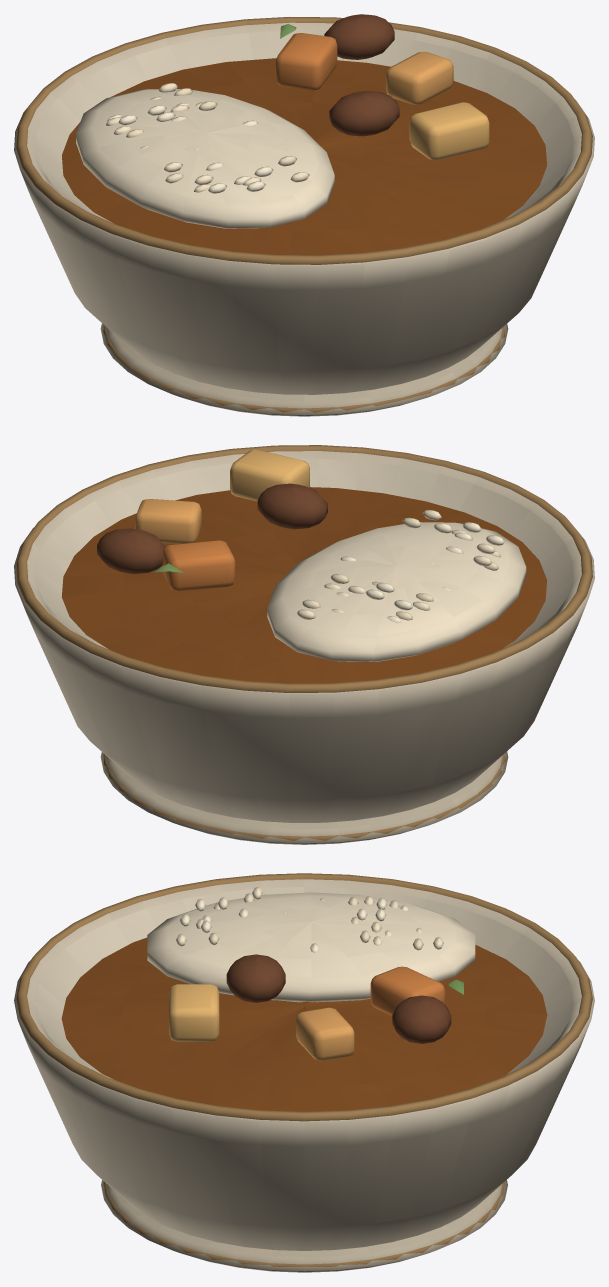
The model's file is curry.glb.
The picture shows the model from 3 angles, top to bottom: view 1: azimuth 30°, elevation 25°; view 2: azimuth 150°, elevation 25°; view 3: azimuth 270°, elevation 25°; orthographic projection.
Parts seen in each view (by area): view 1: Shared_ivory_bowl, Thick_spiced_curry_sauce, Distinct_cream_rice_half, Cream_inner_bowl, Thin_antique_brass_rim, Short_stable_pedestal, Potato_chunk_0, Carrot_chunk_2, Potato_chunk_1, Braised_meat_1, Braised_meat_0, Pedestal_brass_trace; view 2: Shared_ivory_bowl, Thick_spiced_curry_sauce, Distinct_cream_rice_half, Cream_inner_bowl, Thin_antique_brass_rim, Short_stable_pedestal, Carrot_chunk_2, Potato_chunk_0, Braised_meat_1, Potato_chunk_1, Braised_meat_0, Pedestal_brass_trace; view 3: Shared_ivory_bowl, Thick_spiced_curry_sauce, Distinct_cream_rice_half, Cream_inner_bowl, Thin_antique_brass_rim, Short_stable_pedestal, Potato_chunk_0, Potato_chunk_1, Braised_meat_0, Braised_meat_1, Carrot_chunk_2, Pedestal_brass_trace.
Boxes of the visible parts, x1,y1,x2,y2 form: Shared_ivory_bowl: [14, 22, 594, 394]; Thick_spiced_curry_sauce: [62, 58, 547, 255]; Distinct_cream_rice_half: [76, 89, 334, 228]; Cream_inner_bowl: [35, 30, 573, 223]; Thin_antique_brass_rim: [16, 17, 592, 264]; Short_stable_pedestal: [100, 323, 508, 416]; Potato_chunk_0: [409, 102, 489, 160]; Carrot_chunk_2: [275, 33, 337, 90]; Potato_chunk_1: [386, 51, 453, 104]; Braised_meat_1: [329, 91, 399, 136]; Braised_meat_0: [324, 14, 394, 59]; Pedestal_brass_trace: [103, 326, 504, 415]; Shared_ivory_bowl: [14, 451, 594, 822]; Thick_spiced_curry_sauce: [62, 487, 547, 683]; Distinct_cream_rice_half: [267, 522, 526, 661]; Cream_inner_bowl: [35, 458, 573, 649]; Thin_antique_brass_rim: [16, 445, 592, 692]; Short_stable_pedestal: [100, 751, 508, 844]; Carrot_chunk_2: [162, 540, 235, 591]; Potato_chunk_0: [230, 449, 309, 501]; Braised_meat_1: [257, 483, 327, 529]; Potato_chunk_1: [135, 499, 201, 543]; Braised_meat_0: [97, 528, 165, 573]; Pedestal_brass_trace: [104, 754, 505, 840]; Shared_ivory_bowl: [14, 879, 594, 1250]; Thick_spiced_curry_sauce: [61, 937, 547, 1111]; Distinct_cream_rice_half: [147, 892, 475, 1002]; Cream_inner_bowl: [35, 887, 573, 1079]; Thin_antique_brass_rim: [16, 873, 592, 1121]; Short_stable_pedestal: [101, 1180, 507, 1272]; Potato_chunk_0: [169, 984, 219, 1041]; Potato_chunk_1: [296, 1007, 354, 1060]; Braised_meat_0: [392, 995, 451, 1043]; Braised_meat_1: [226, 954, 285, 1002]; Carrot_chunk_2: [370, 966, 445, 1015]; Pedestal_brass_trace: [104, 1181, 504, 1266].
Size of the model in its own units: 0.842 by 0.4 by 0.842.
